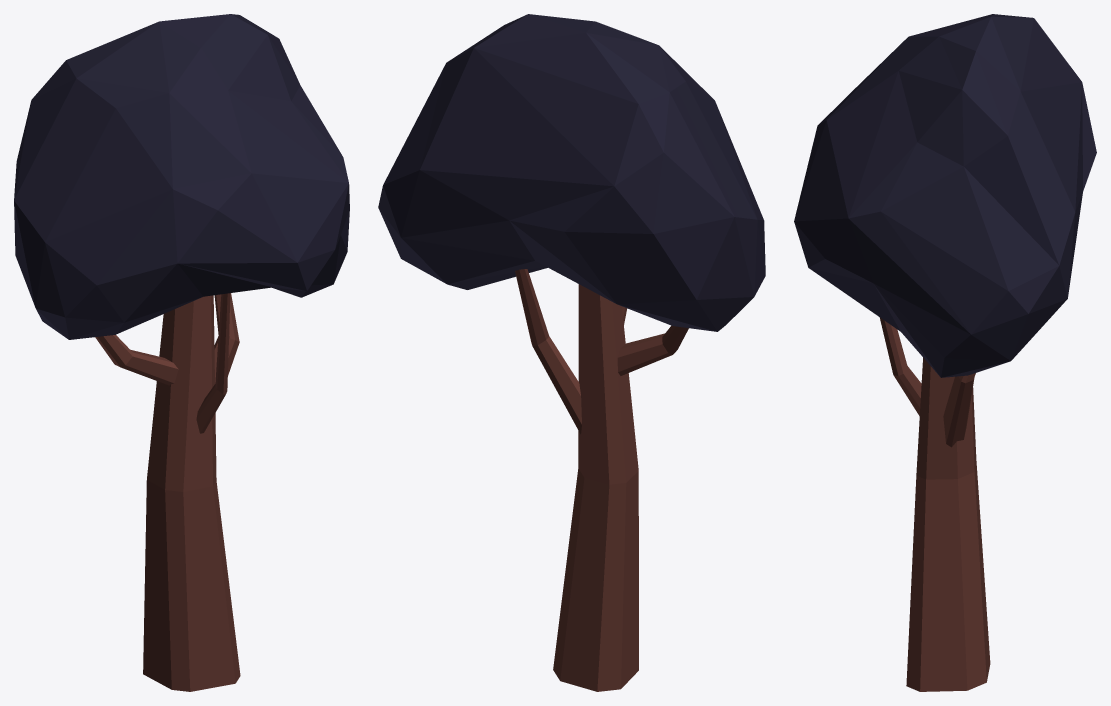
Rendered from tree_whole_crown.fbx.
The picture shows the model from 3 angles, left to right: view 1: azimuth 30°, elevation 25°; view 2: azimuth 150°, elevation 25°; view 3: azimuth 270°, elevation 25°; orthographic projection. The views are drawn at different scales.
Parts seen in each view (by area): view 1: leafage.003, trunk.003; view 2: leafage.003, trunk.003; view 3: leafage.003, trunk.003.
Part boxes in pixels (x1=…): leafage.003: x1=14, y1=14, x2=349, y2=339; trunk.003: x1=95, y1=293, x2=240, y2=691; leafage.003: x1=378, y1=14, x2=765, y2=331; trunk.003: x1=515, y1=269, x2=688, y2=691; leafage.003: x1=794, y1=14, x2=1096, y2=377; trunk.003: x1=879, y1=317, x2=990, y2=691.
Size of the model in its own units: 174 by 323 by 136.
